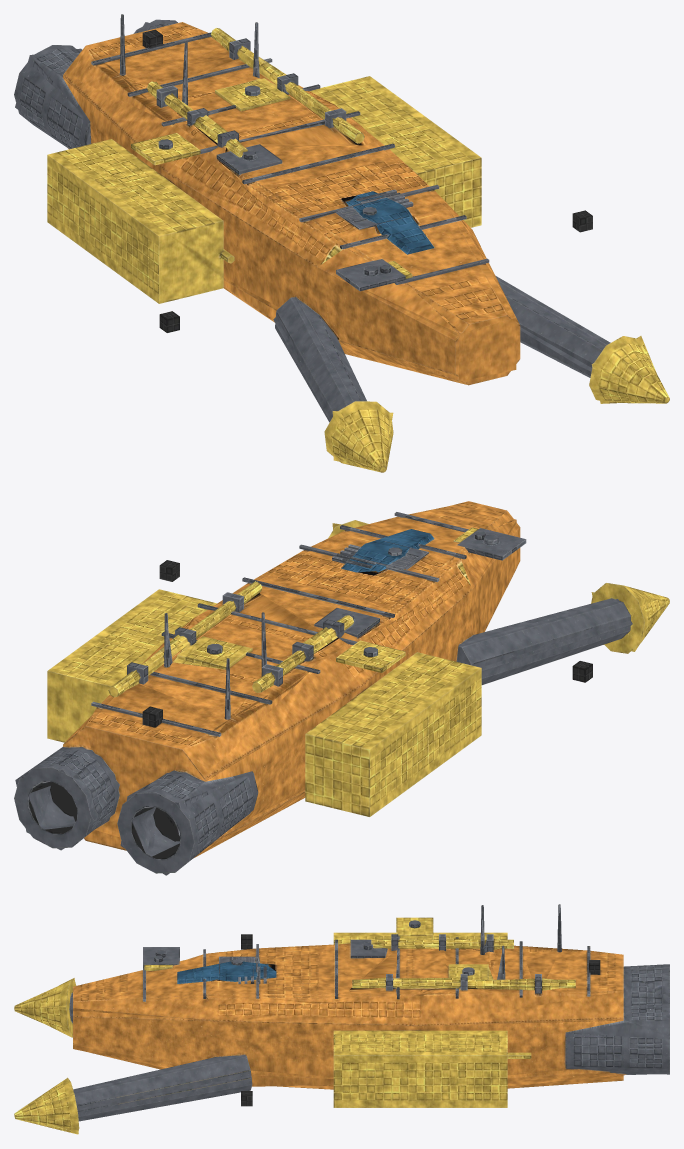
File: sd_npc_mining.glb
3 renders of one model, top to bottom at view 1: azimuth 30°, elevation 25°; view 2: azimuth 150°, elevation 25°; view 3: azimuth 270°, elevation 25°, orthographic. The views are drawn at different scales.
Parts seen in each view (by area): view 1: LOD0_body, LOD1_body; view 2: LOD0_body, LOD1_body; view 3: LOD0_body, LOD1_body.
Part boxes in pixels (bbox=[...]): LOD0_body: bbox=[14, 14, 669, 472]; LOD1_body: bbox=[15, 22, 667, 469]; LOD0_body: bbox=[14, 501, 669, 873]; LOD1_body: bbox=[15, 507, 656, 875]; LOD0_body: bbox=[14, 904, 669, 1134]; LOD1_body: bbox=[14, 932, 669, 1133].
Size of the model in its own units: 0.5835 by 0.2741 by 1.
1 material, 1 textured.
